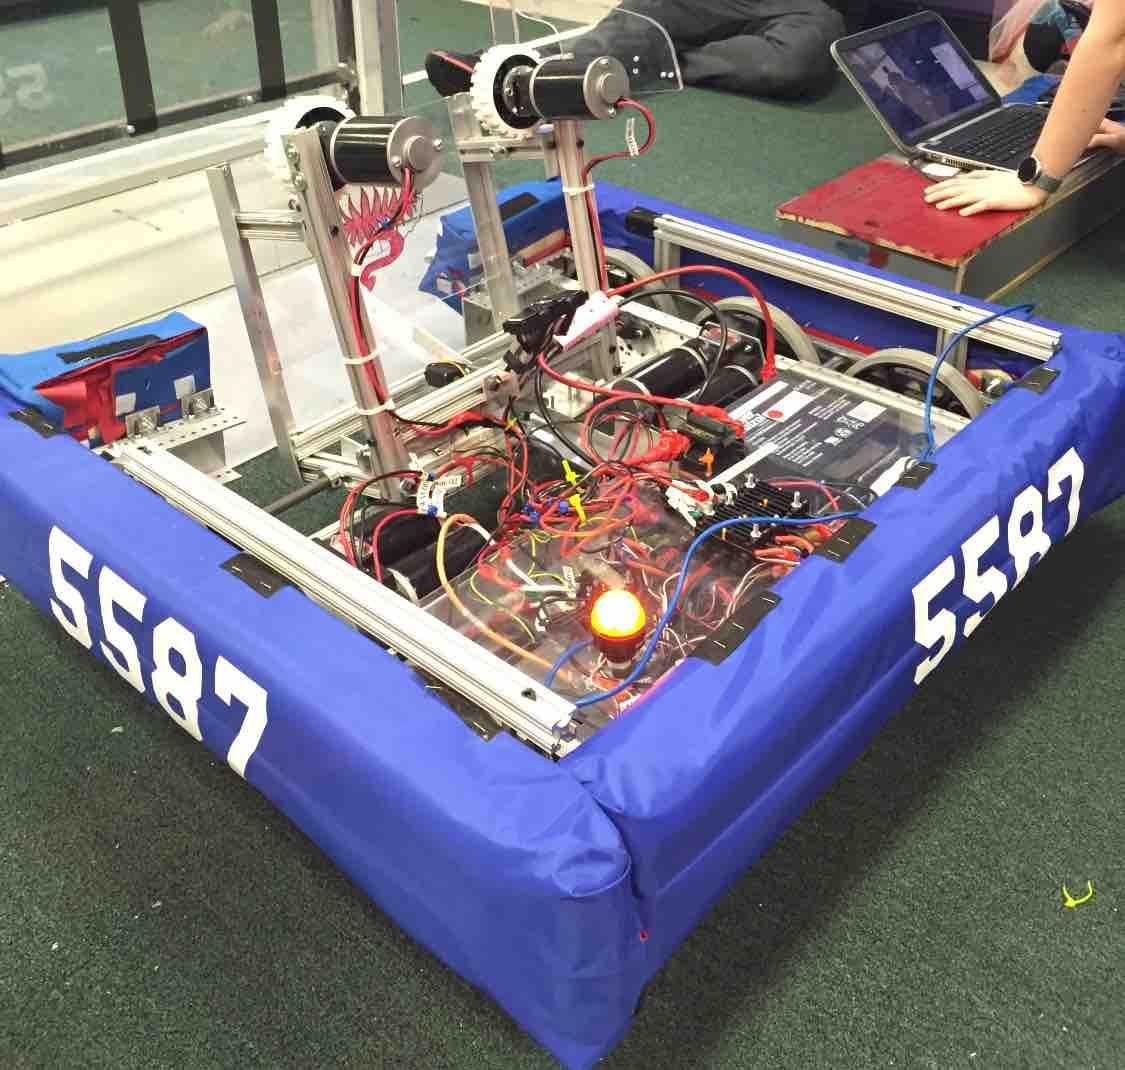robot: (5, 52, 1123, 997)
